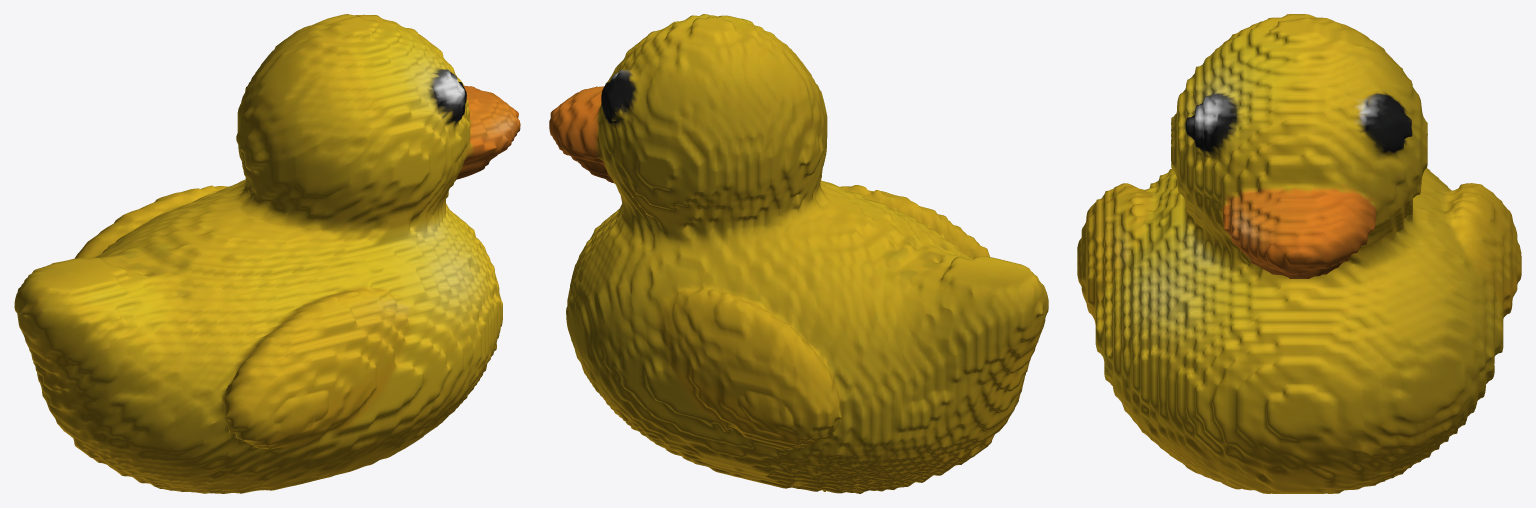
Rendered from rubber-duck.glb.
The picture shows the model from 3 angles, left to right: view 1: azimuth 30°, elevation 25°; view 2: azimuth 150°, elevation 25°; view 3: azimuth 270°, elevation 25°; orthographic projection. The views are drawn at different scales.
Parts seen in each view (by area): view 1: rubber-duck; view 2: rubber-duck; view 3: rubber-duck.
Part boxes in pixels (x1,y1,x2,y2): rubber-duck: (14,14,520,493); rubber-duck: (549,14,1048,493); rubber-duck: (1077,14,1521,493).
Bounding box in the file's own units: 0.1 × 0.0776 × 0.0692.
